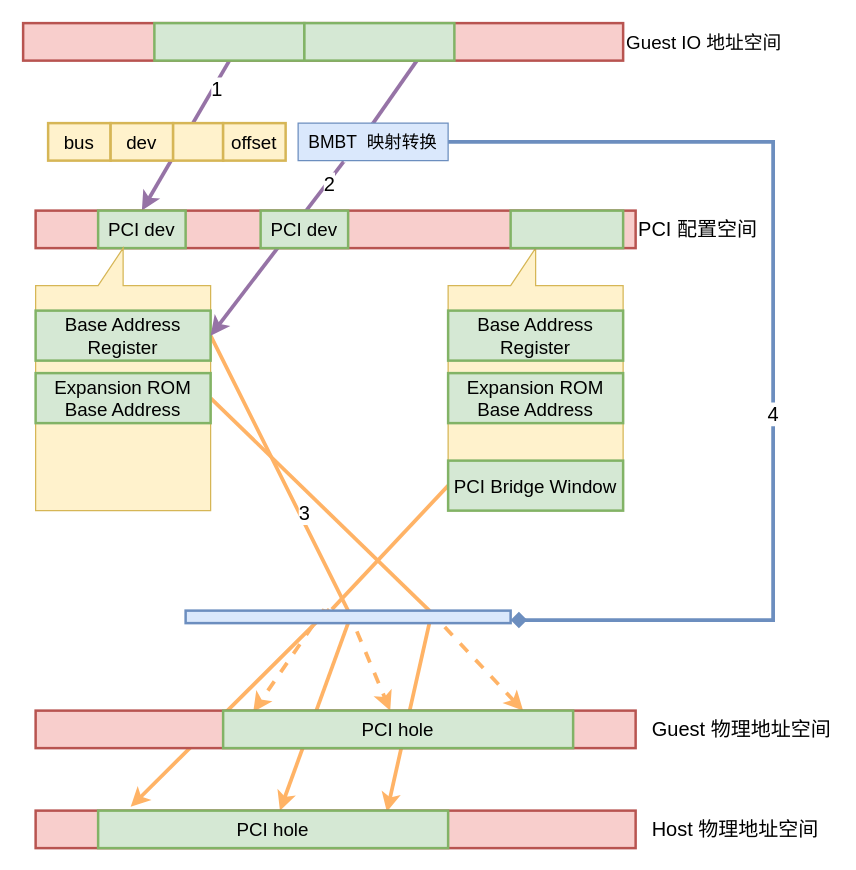
This 856x870 diagram has some shape labels left out. The centre of each missing label's shape, as x and y in pixels:
CONFIG_CMD: [378,41]
CONFIG_DATA: [228,41]
fn: [197,141]
PCI Bridge: [566,229]
